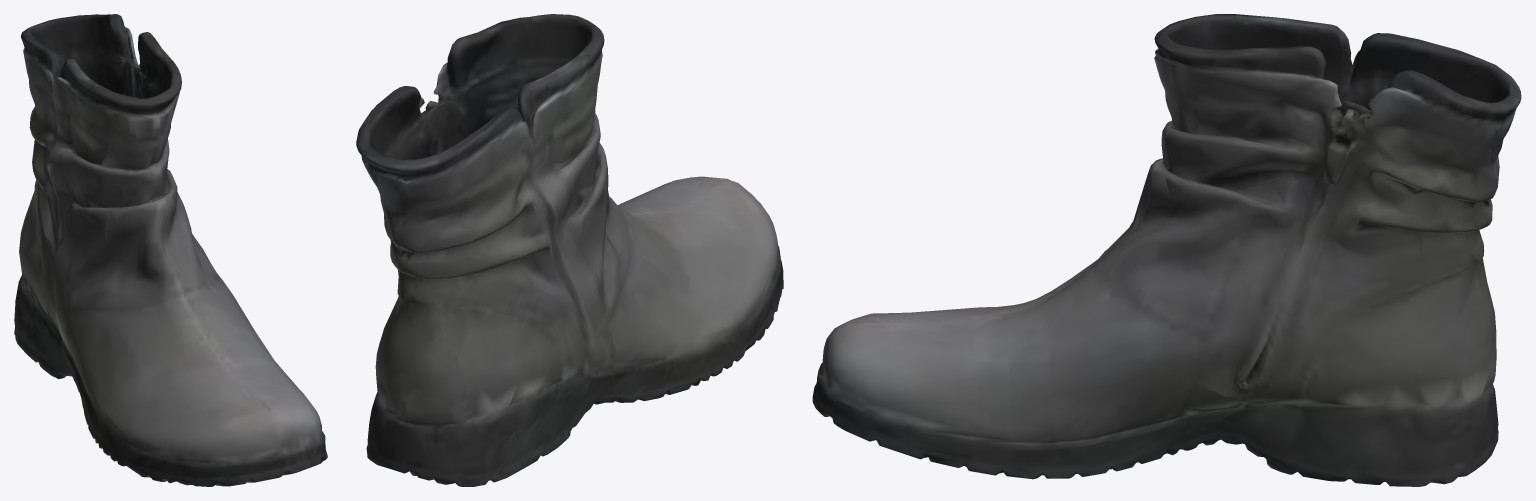
The model's file is Womens_Teva_Capistrano_Bootie-high.glb.
3 renders of one model, left to right at view 1: azimuth 30°, elevation 25°; view 2: azimuth 150°, elevation 25°; view 3: azimuth 270°, elevation 25°, orthographic. The views are drawn at different scales.
Visible parts, largest first — view 1: Womens_Teva_Capistrano_Bootie; view 2: Womens_Teva_Capistrano_Bootie; view 3: Womens_Teva_Capistrano_Bootie.
Boxes of the visible parts, box(x1,y1,x2,y2) form: Womens_Teva_Capistrano_Bootie: box(14, 14, 327, 486); Womens_Teva_Capistrano_Bootie: box(356, 14, 783, 486); Womens_Teva_Capistrano_Bootie: box(812, 14, 1521, 486).
Bounding box in the file's own units: 0.1014 × 0.191 × 0.2905.
Materials: 1 (1 with a texture image).
